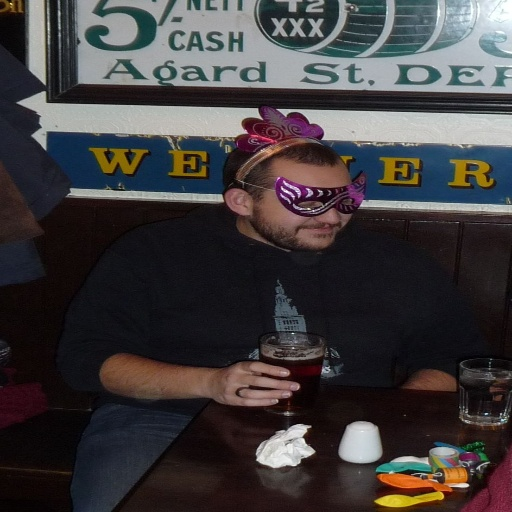hand: (178, 360, 305, 411)
